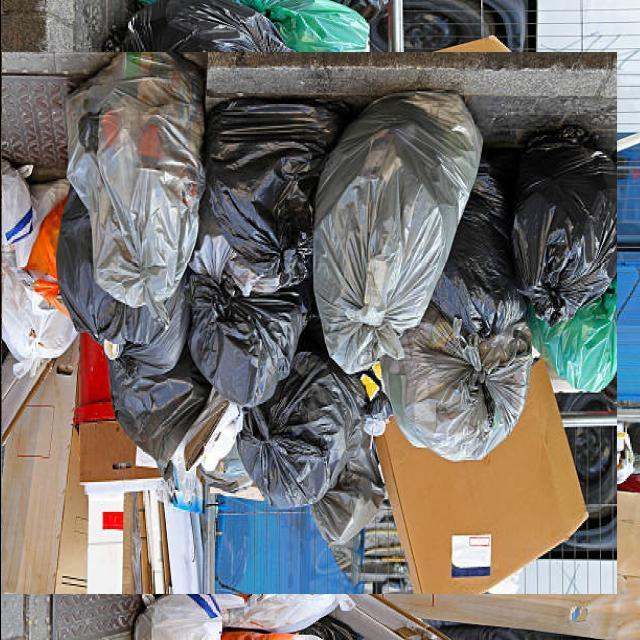Trashbag: (54, 193, 191, 371), (206, 89, 345, 263), (247, 366, 374, 514), (514, 140, 616, 311), (183, 274, 307, 409), (432, 167, 524, 342), (107, 355, 215, 469)
